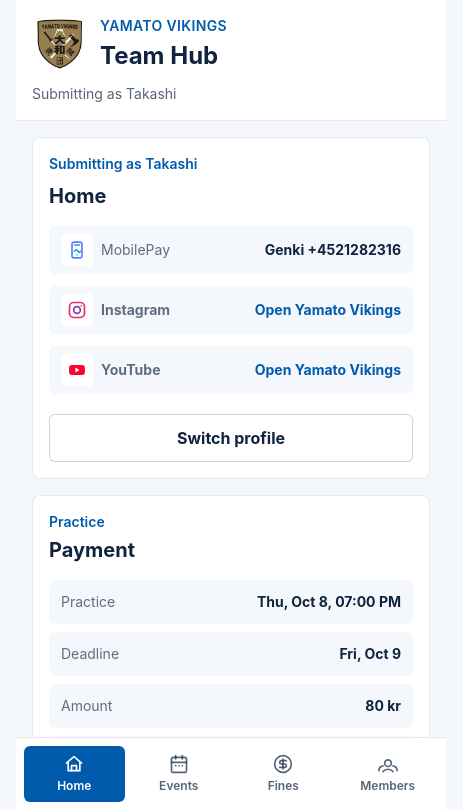
Test: App shell › shows cancelled events to admins
Click the link "Events" at (179, 774), box [159,754,198,793]
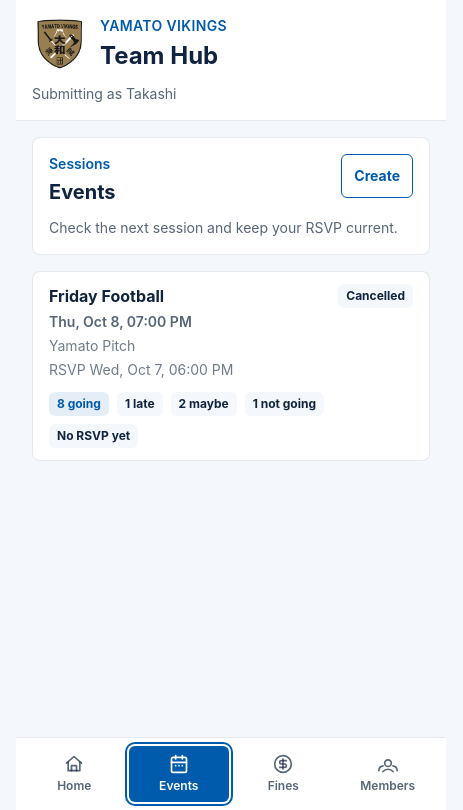
Expected: the text "Cancelled" is shown, [338,284,413,308]
Expected: the link "Friday Football" is shown, [33,272,429,460]
